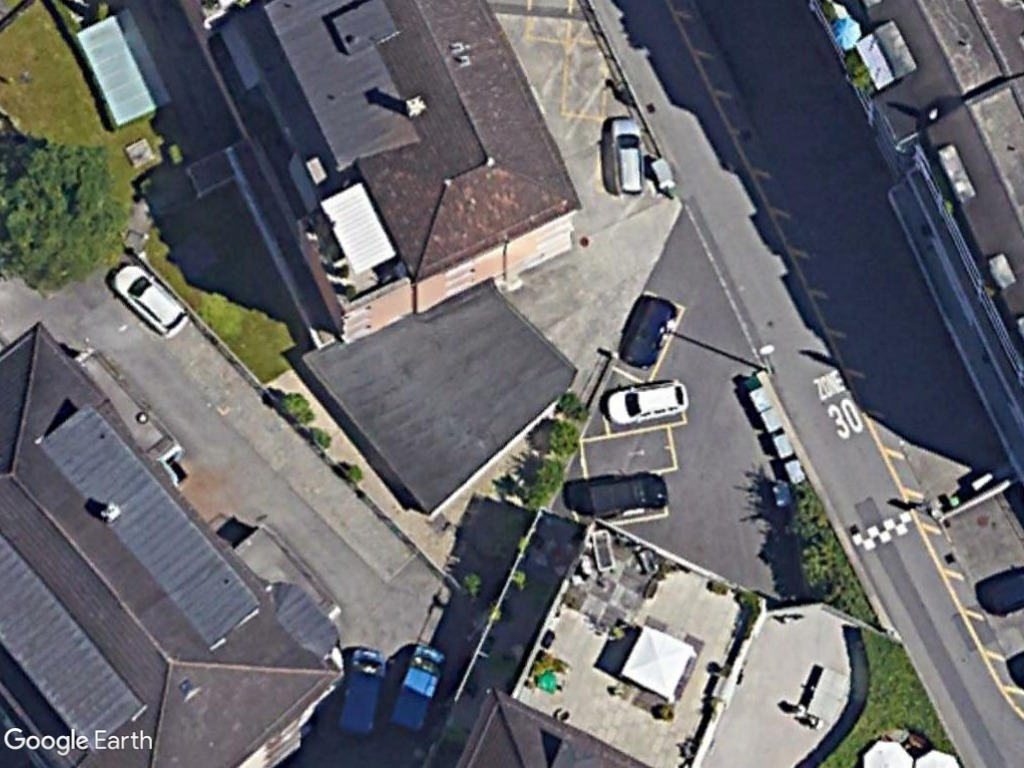car: (108, 263, 191, 341), (605, 377, 692, 427), (602, 113, 647, 202)
